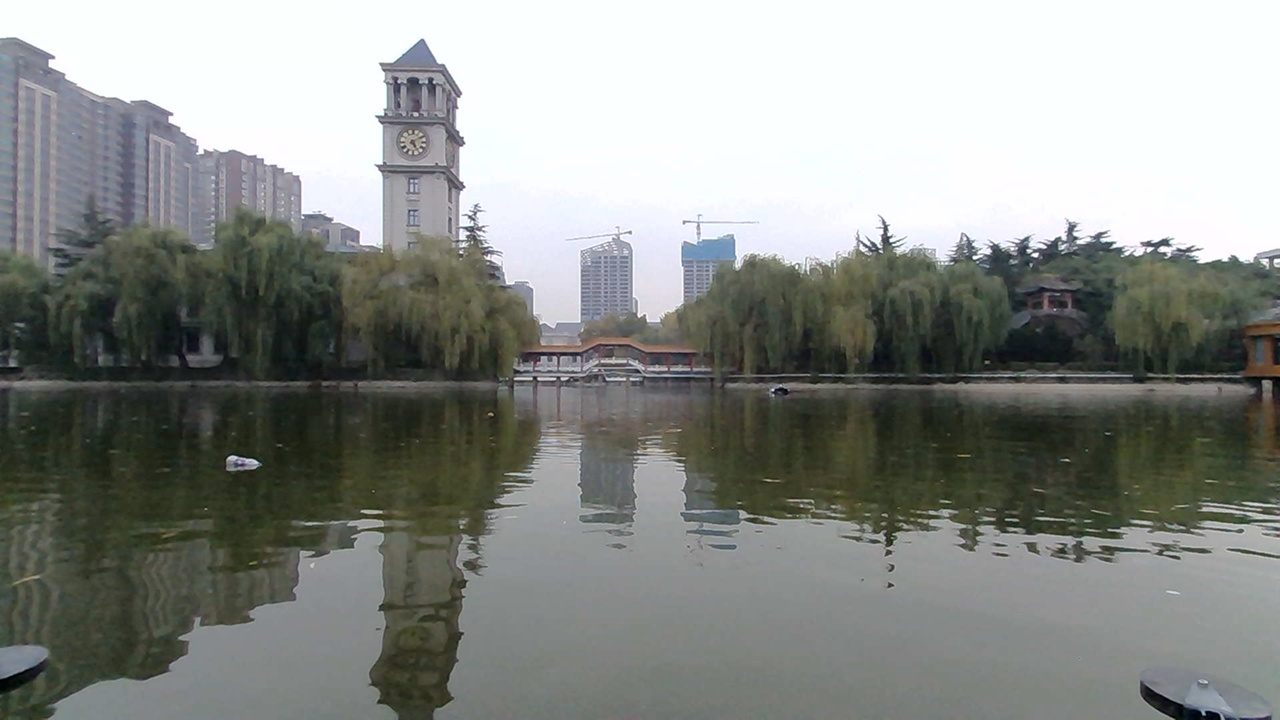bottle: (221, 444, 273, 482)
